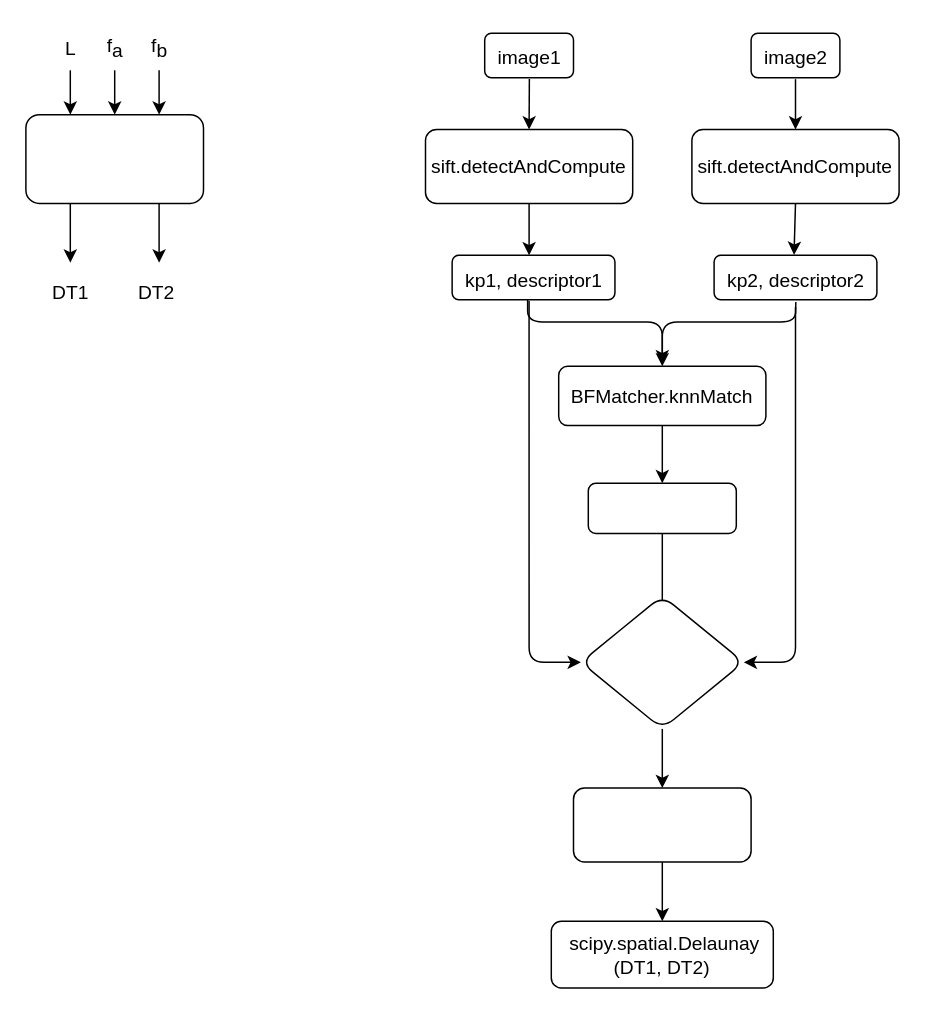
The diagram is 925 pixels wide and 1014 high, and some of its shapes have lost their labels. The shapes that lost their labels are listed below. From the top down, each one's centre as x and y in pixels, then its label:
At point (114, 158): "refineMatches".
At point (661, 508): "L [2XN] [I1, I2]".
At point (661, 661): "Loop until L1 array".
At point (661, 824): "fa(1,:), fa(2,:); fb(1,:), fb(2,:)".
